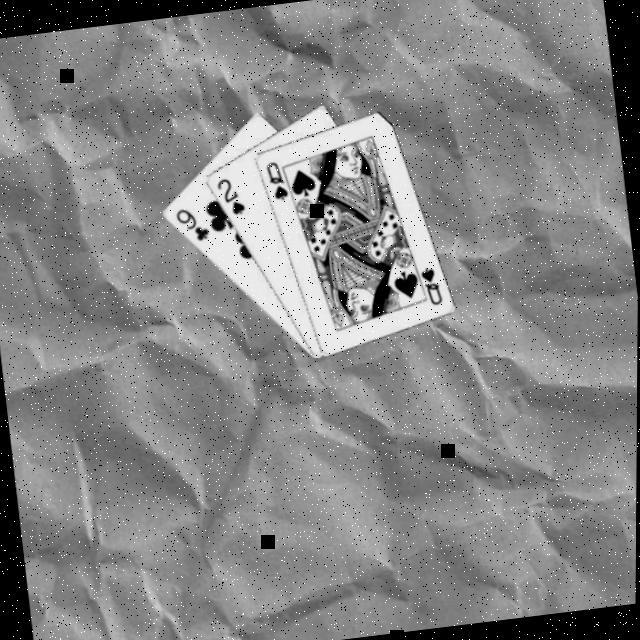2S: (210, 170, 247, 218)
9C: (168, 200, 210, 245)
QS: (414, 260, 444, 307), (260, 155, 289, 202)
